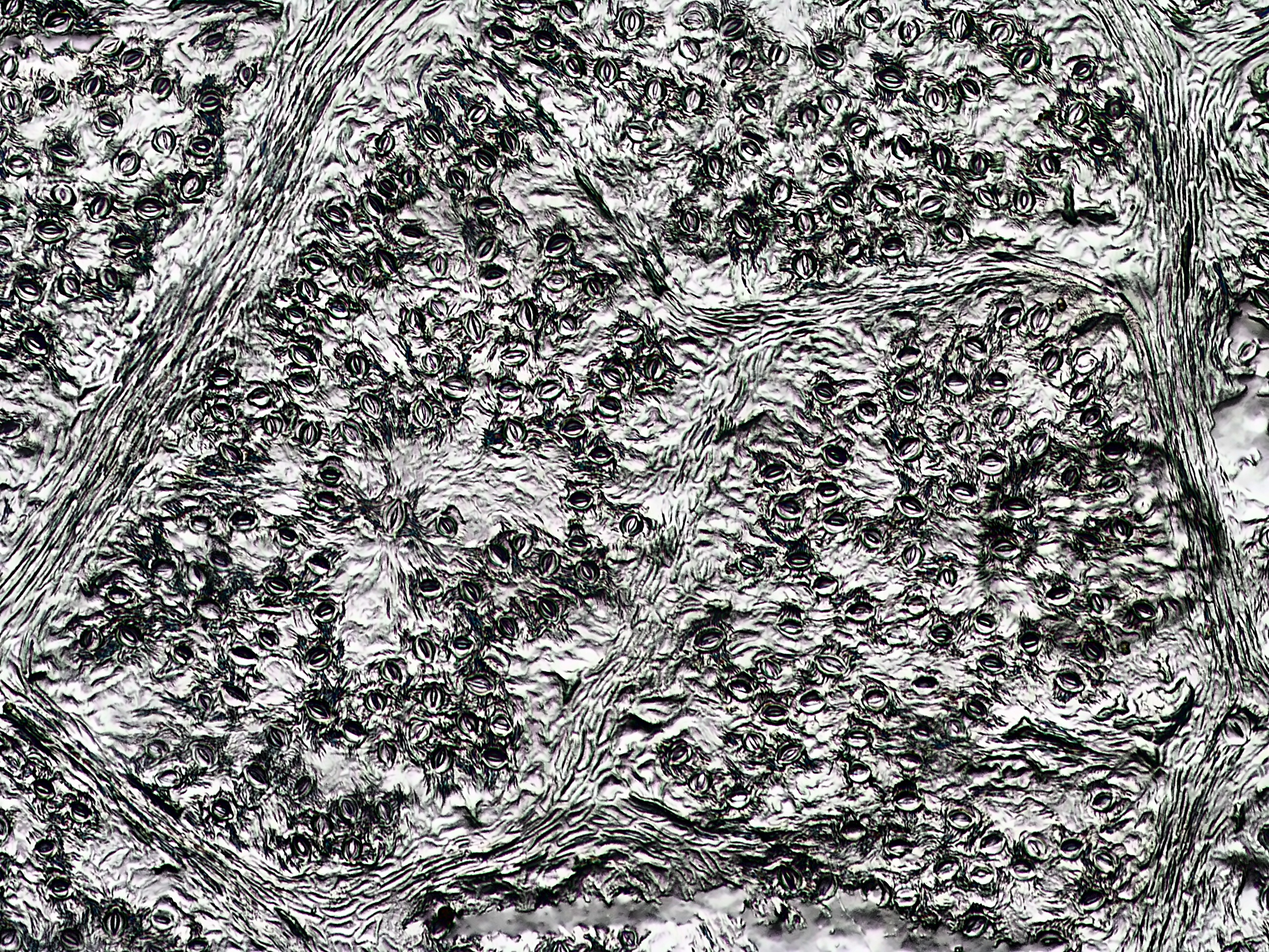stomata: (864, 876, 892, 908), (815, 653, 850, 677), (383, 497, 405, 535), (811, 43, 843, 69), (894, 492, 926, 518), (874, 68, 910, 91), (1001, 495, 1034, 520), (35, 220, 70, 243), (1223, 712, 1248, 744), (720, 14, 749, 41), (873, 183, 904, 208), (135, 197, 167, 221), (1036, 929, 1069, 952), (87, 193, 114, 221), (465, 672, 495, 697), (193, 598, 225, 621), (1029, 303, 1052, 335), (693, 629, 725, 652), (244, 763, 271, 790), (952, 9, 974, 42), (1056, 671, 1086, 695), (103, 907, 125, 939), (989, 539, 1021, 561), (180, 172, 206, 199), (441, 376, 470, 400), (596, 57, 619, 87), (621, 6, 643, 37), (948, 481, 979, 503), (94, 110, 121, 135), (20, 330, 47, 355), (58, 927, 85, 952), (151, 907, 178, 932), (644, 77, 668, 105), (820, 151, 848, 175), (918, 194, 946, 218), (230, 509, 259, 532), (230, 644, 259, 667), (931, 144, 954, 173), (1025, 430, 1048, 459), (815, 873, 838, 902), (111, 234, 141, 256), (893, 347, 923, 369), (289, 371, 316, 395), (736, 138, 763, 162), (1015, 46, 1039, 73), (537, 595, 561, 622), (779, 865, 803, 892), (977, 832, 1004, 856), (1102, 439, 1130, 462), (544, 235, 573, 257), (976, 453, 1005, 475), (947, 806, 976, 828), (42, 11, 72, 32), (929, 624, 959, 645), (466, 310, 485, 343), (115, 150, 140, 175), (829, 191, 854, 216), (576, 560, 601, 585), (990, 405, 1015, 430), (863, 687, 888, 712), (57, 273, 83, 297), (419, 124, 445, 148), (374, 248, 398, 274), (359, 391, 383, 417), (116, 624, 142, 648), (487, 542, 511, 568), (407, 720, 433, 744), (346, 351, 369, 378), (768, 178, 791, 205), (504, 419, 527, 446), (478, 267, 509, 287), (517, 299, 537, 330), (1012, 186, 1034, 214), (901, 541, 923, 569), (49, 141, 78, 162), (413, 635, 434, 664), (760, 703, 789, 724), (100, 266, 124, 291), (531, 28, 556, 52), (472, 148, 496, 173), (340, 419, 364, 444), (307, 553, 332, 577), (740, 90, 765, 114), (974, 184, 999, 208), (898, 438, 922, 463), (1077, 890, 1107, 910), (291, 344, 317, 367), (191, 741, 214, 767), (794, 250, 817, 276), (944, 374, 970, 397), (800, 691, 826, 714), (934, 857, 960, 880), (6, 155, 33, 177), (222, 685, 249, 707), (542, 270, 569, 292), (540, 550, 562, 577), (423, 685, 445, 712), (895, 382, 922, 404), (152, 73, 173, 101), (341, 836, 362, 864), (731, 210, 752, 238), (413, 398, 434, 426), (684, 85, 704, 114), (846, 601, 875, 621), (211, 797, 235, 821), (1038, 153, 1062, 177), (668, 742, 692, 766), (1060, 836, 1084, 860), (488, 22, 513, 45), (0, 927, 23, 952), (488, 714, 513, 737), (483, 746, 508, 769), (1073, 352, 1098, 375), (1081, 405, 1106, 428), (1019, 631, 1044, 654), (119, 50, 145, 72), (464, 103, 490, 125), (68, 801, 94, 823), (155, 767, 181, 789), (924, 86, 946, 112), (1041, 348, 1063, 374), (816, 482, 842, 504), (728, 678, 754, 700), (742, 731, 768, 753), (970, 864, 996, 886), (265, 576, 292, 597), (625, 120, 652, 141), (560, 417, 587, 438), (777, 743, 804, 764), (474, 197, 502, 217), (304, 700, 332, 720), (1047, 586, 1075, 606), (362, 193, 386, 216), (729, 50, 752, 74), (941, 221, 965, 244), (963, 337, 987, 360), (1083, 640, 1107, 663), (704, 152, 723, 181), (894, 792, 923, 811), (680, 36, 702, 61), (314, 489, 339, 511), (266, 724, 288, 749), (992, 20, 1014, 45), (1066, 101, 1088, 126), (460, 579, 482, 604), (599, 367, 624, 389), (16, 281, 42, 302), (841, 822, 867, 843), (188, 514, 215, 534), (338, 795, 358, 822), (1070, 60, 1097, 80), (615, 324, 642, 344), (895, 888, 922, 908), (106, 586, 134, 605), (296, 278, 319, 301), (848, 117, 871, 140), (957, 77, 980, 100), (308, 648, 332, 670), (475, 237, 497, 261), (690, 770, 712, 794), (197, 91, 222, 112), (189, 135, 214, 156), (899, 20, 920, 45), (1105, 95, 1126, 120), (383, 660, 404, 685), (457, 710, 478, 735), (597, 396, 622, 417), (857, 399, 878, 424), (813, 575, 838, 596), (1011, 860, 1036, 881), (0, 53, 18, 82), (500, 348, 529, 366), (786, 552, 815, 570), (154, 128, 174, 154), (299, 421, 319, 447), (431, 745, 451, 771), (737, 556, 763, 576), (913, 674, 939, 694), (207, 367, 234, 386), (887, 838, 914, 857), (556, 0, 579, 22), (342, 720, 365, 742), (451, 635, 474, 657), (964, 915, 986, 938), (317, 468, 345, 486), (189, 560, 207, 588), (448, 168, 468, 193), (247, 387, 272, 407), (152, 560, 177, 580), (377, 740, 397, 765), (1088, 137, 1113, 157), (796, 210, 816, 235), (498, 379, 523, 399), (366, 690, 386, 715), (588, 445, 613, 465), (2, 88, 21, 114), (501, 129, 520, 155), (398, 225, 424, 244), (205, 550, 231, 569), (537, 380, 563, 399), (647, 355, 666, 381), (822, 514, 848, 533), (81, 628, 103, 650), (49, 877, 71, 899), (290, 775, 312, 797), (1095, 851, 1117, 873), (2, 0, 25, 21), (374, 800, 395, 823), (820, 94, 843, 115), (1070, 383, 1093, 404), (681, 9, 705, 29), (376, 131, 396, 155), (304, 253, 328, 273), (769, 41, 789, 65), (209, 403, 234, 422), (970, 151, 989, 176), (681, 208, 700, 233), (569, 491, 594, 510), (622, 512, 641, 537), (951, 421, 970, 446), (1112, 516, 1131, 541), (726, 790, 751, 809), (884, 626, 909, 645), (238, 61, 256, 87), (894, 135, 912, 161), (418, 580, 444, 598), (1061, 464, 1079, 490), (1073, 531, 1099, 549), (981, 654, 1007, 672), (53, 184, 74, 206), (220, 442, 242, 463), (277, 527, 298, 549), (256, 629, 278, 650), (32, 777, 54, 798), (843, 239, 865, 260), (0, 419, 23, 439), (326, 298, 349, 318), (860, 527, 883, 547), (848, 763, 871, 783), (844, 731, 871, 748), (881, 238, 905, 257), (824, 446, 848, 465), (906, 595, 930, 614), (292, 833, 310, 858), (776, 617, 802, 634), (37, 84, 58, 105), (83, 76, 103, 98), (263, 414, 283, 436), (314, 602, 336, 622), (988, 372, 1010, 392), (964, 700, 986, 720), (563, 54, 582, 77), (406, 307, 425, 330), (312, 814, 331, 837), (422, 351, 441, 374), (568, 535, 591, 554), (761, 655, 780, 678), (347, 262, 365, 286), (998, 308, 1022, 326), (777, 499, 801, 517), (898, 752, 922, 770), (863, 7, 883, 28), (436, 515, 456, 536), (1135, 602, 1156, 622), (203, 32, 225, 51), (401, 166, 420, 188), (325, 205, 347, 224), (284, 304, 306, 323), (586, 276, 605, 298), (1101, 474, 1123, 493), (377, 177, 400, 195), (34, 839, 57, 857), (939, 567, 957, 590), (912, 723, 935, 741), (946, 717, 964, 740), (800, 104, 817, 128), (1027, 837, 1044, 861), (558, 315, 577, 336), (429, 254, 447, 276), (1090, 591, 1108, 613), (763, 465, 786, 482), (814, 384, 834, 403), (173, 645, 194, 663), (1255, 286, 1269, 313), (1239, 340, 1257, 361), (513, 533, 530, 555), (0, 194, 16, 217), (144, 740, 167, 756), (975, 613, 995, 631), (430, 298, 447, 319), (498, 616, 515, 637), (1091, 794, 1112, 811), (100, 37, 120, 54), (515, 0, 539, 14), (198, 693, 213, 712), (1257, 249, 1269, 272), (0, 236, 13, 257), (0, 811, 9, 841)
